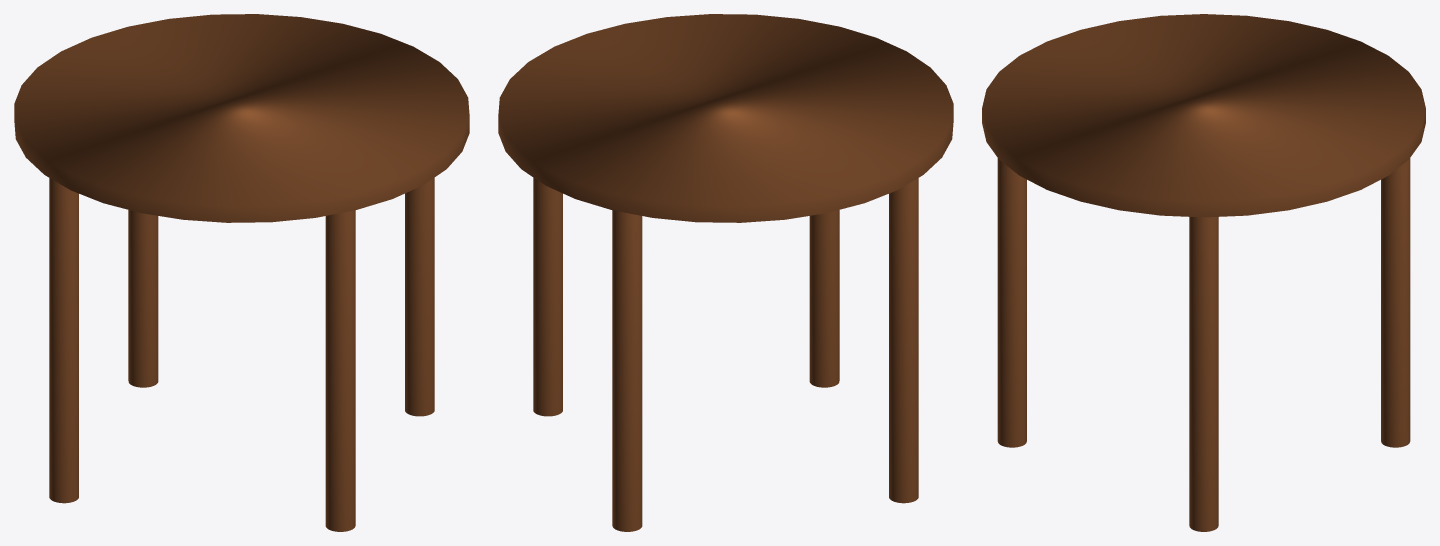
The model's file is mesa.fbx.
3 renders of one model, left to right at view 1: azimuth 30°, elevation 25°; view 2: azimuth 150°, elevation 25°; view 3: azimuth 270°, elevation 25°, orthographic. The views are drawn at different scales.
Visible parts, largest first — view 1: Cylinder.001; view 2: Cylinder.001; view 3: Cylinder.001.
Part boxes in pixels (<box>): Cylinder.001: <box>14,14,469,531</box>; Cylinder.001: <box>498,14,953,531</box>; Cylinder.001: <box>982,14,1425,531</box>.
Size of the model in its own units: 200 by 166 by 200.
